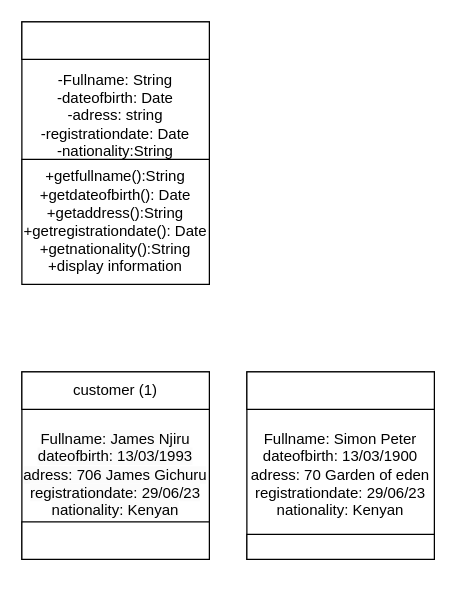
This 456x591 diagram has some shape labels left out. The shapes that lost their labels are listed below. From the top down, each one's centre as x and y in pixels, then its label:
At point 115,40: "customer".
At point 340,390: "customer (2)".
